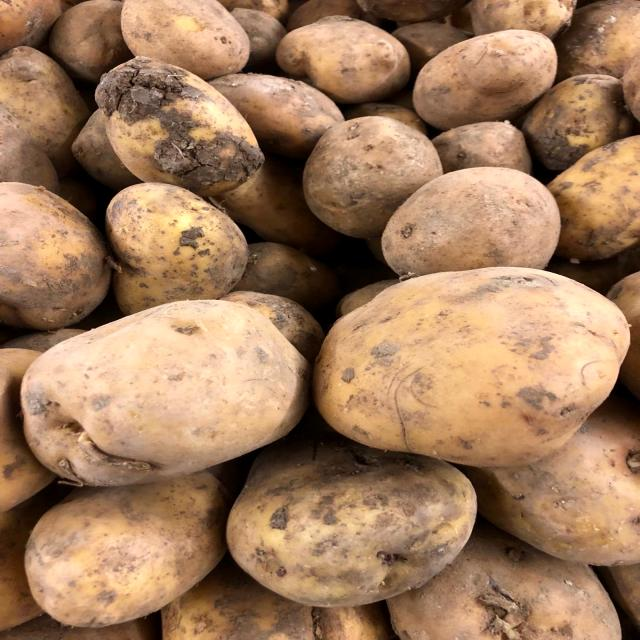potato: (304, 263, 636, 471), (16, 288, 311, 490), (85, 181, 259, 319), (377, 164, 571, 280), (409, 28, 563, 132)
